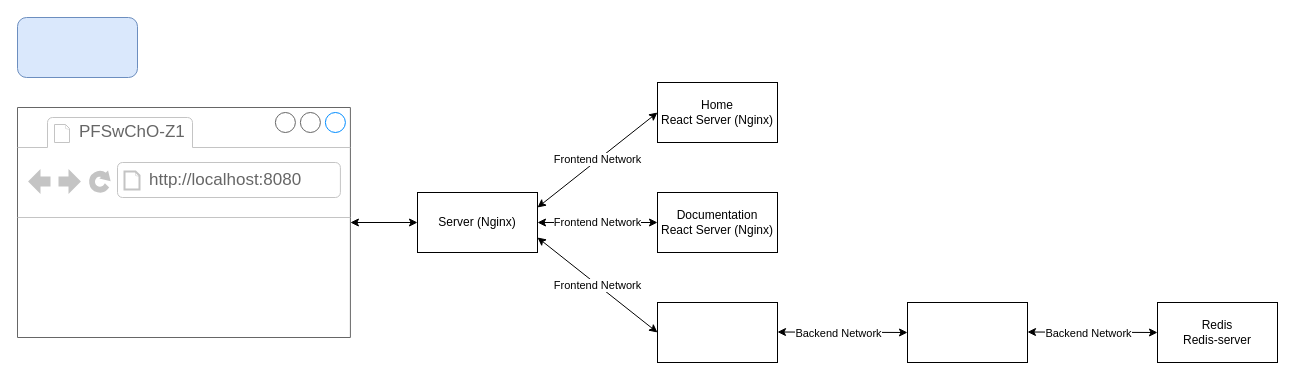
Some shapes in this 1295 by 380 pixel diagram are drawn without their labels. The box of each missing label's shape, as (x1, y1, x2, y2) in pixels:
API (nodejs server): (906, 302, 1028, 362)
Calculator React Server (Nginx): (656, 302, 778, 362)
Production: (16, 16, 138, 78)
